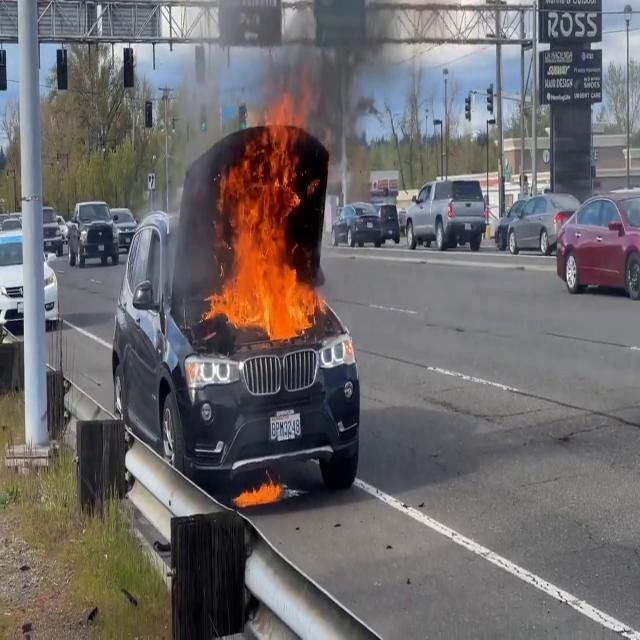Fire: (203, 80, 324, 337), (234, 473, 290, 510)
Smoke: (279, 1, 397, 180)
